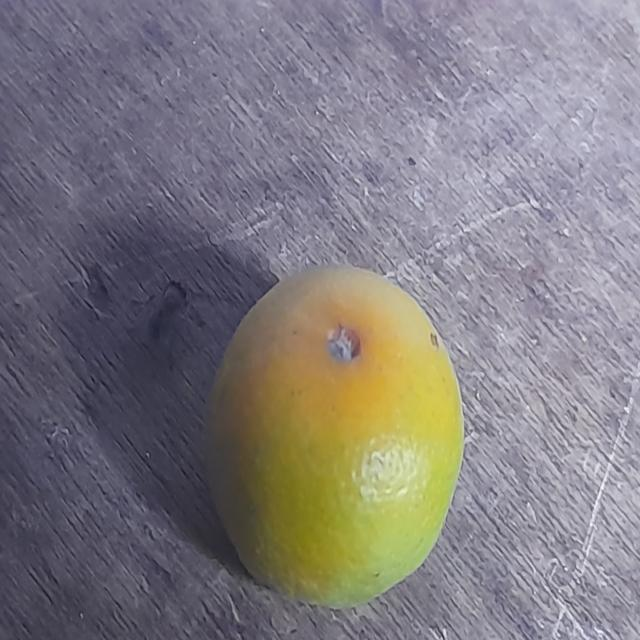greening: (203, 262, 461, 601)
